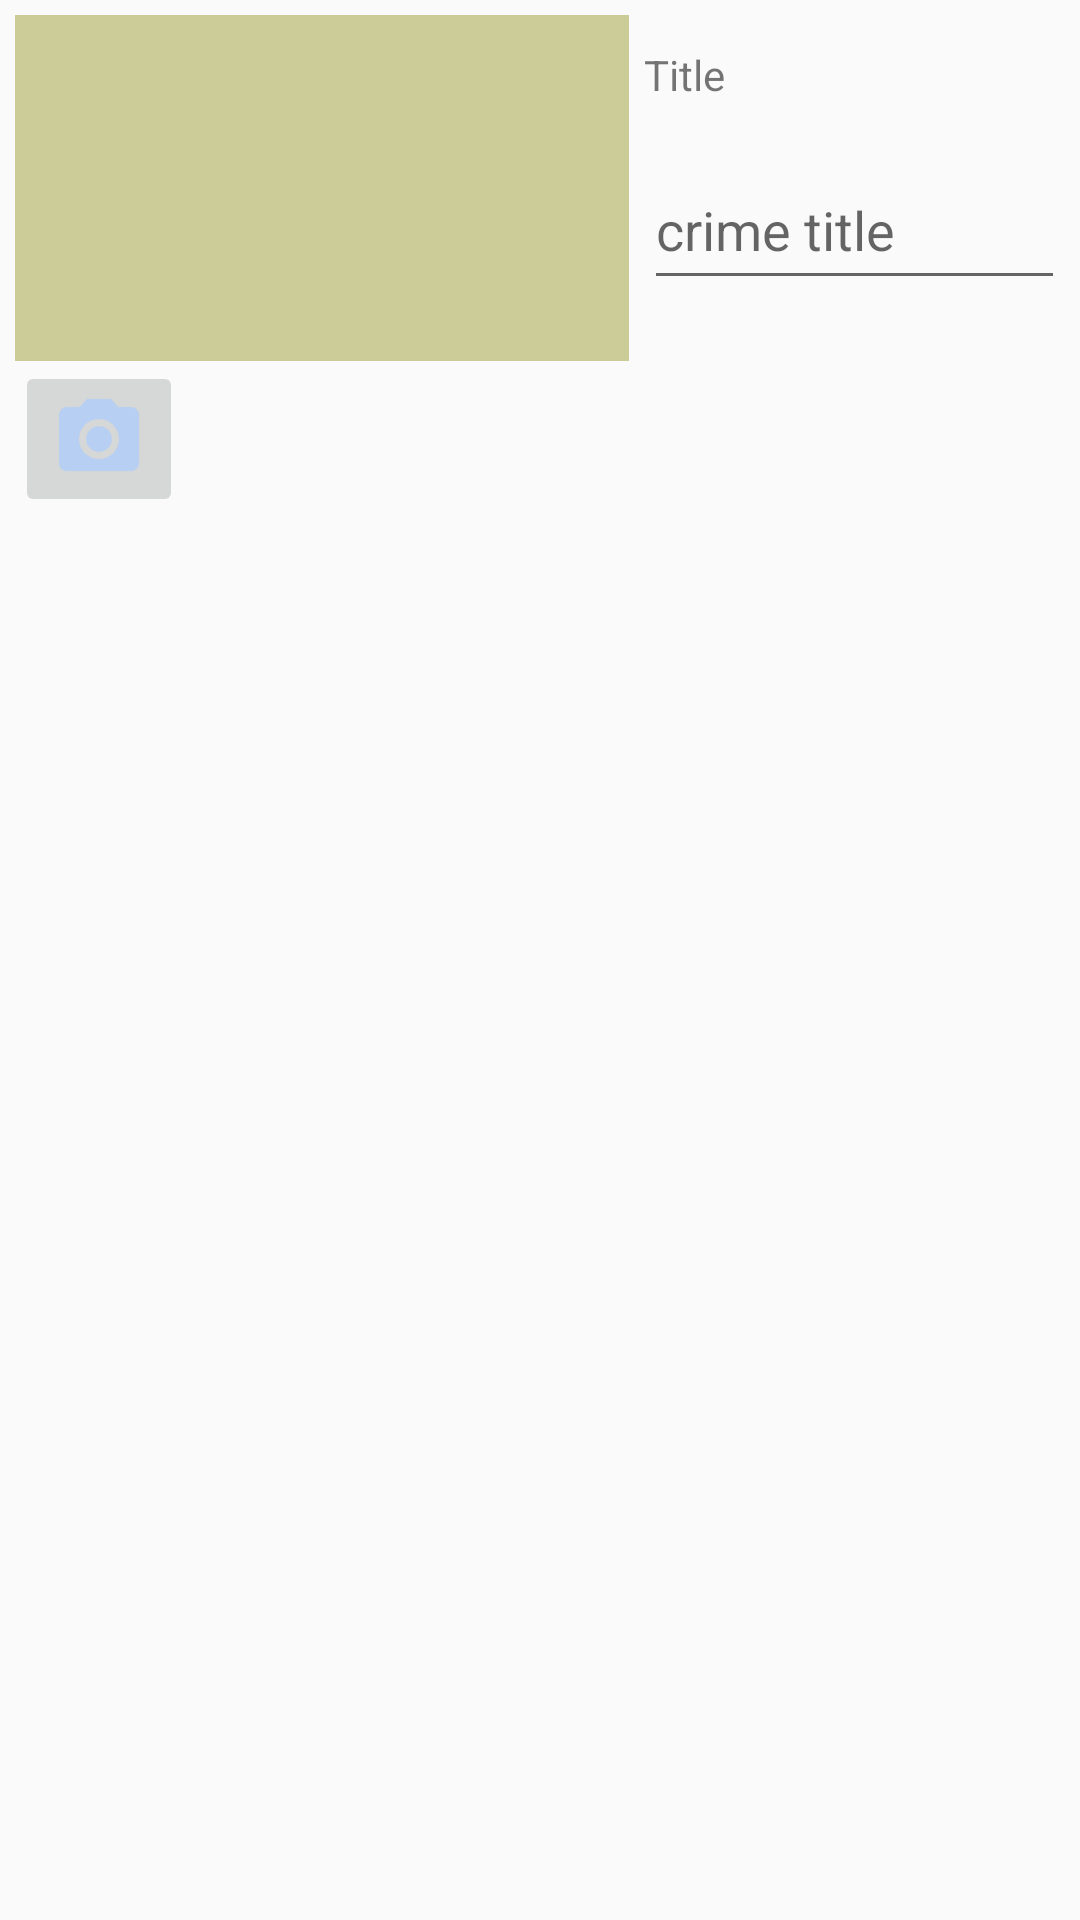

Locate icon controls on the screen. Image size 1080 x 1920, boxes as {"left": x1, "top": y1, "right": x2, "bottom": y2}.
crime camera: {"left": 27, "top": 379, "right": 171, "bottom": 499}
